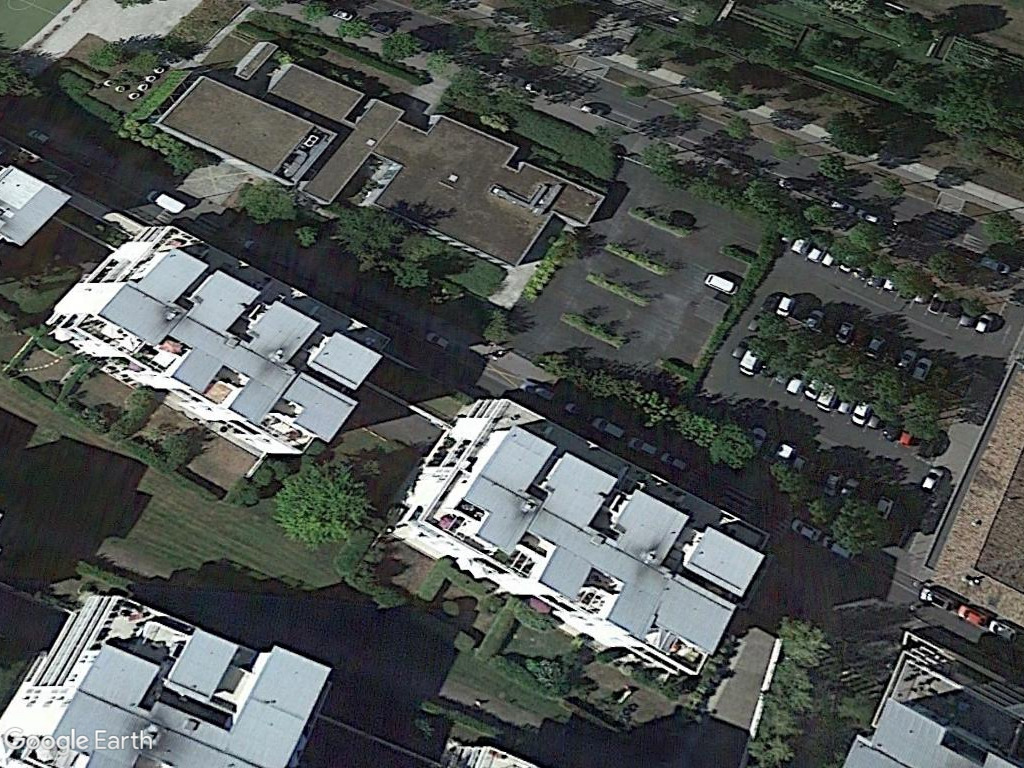van: (704, 267, 740, 298)
